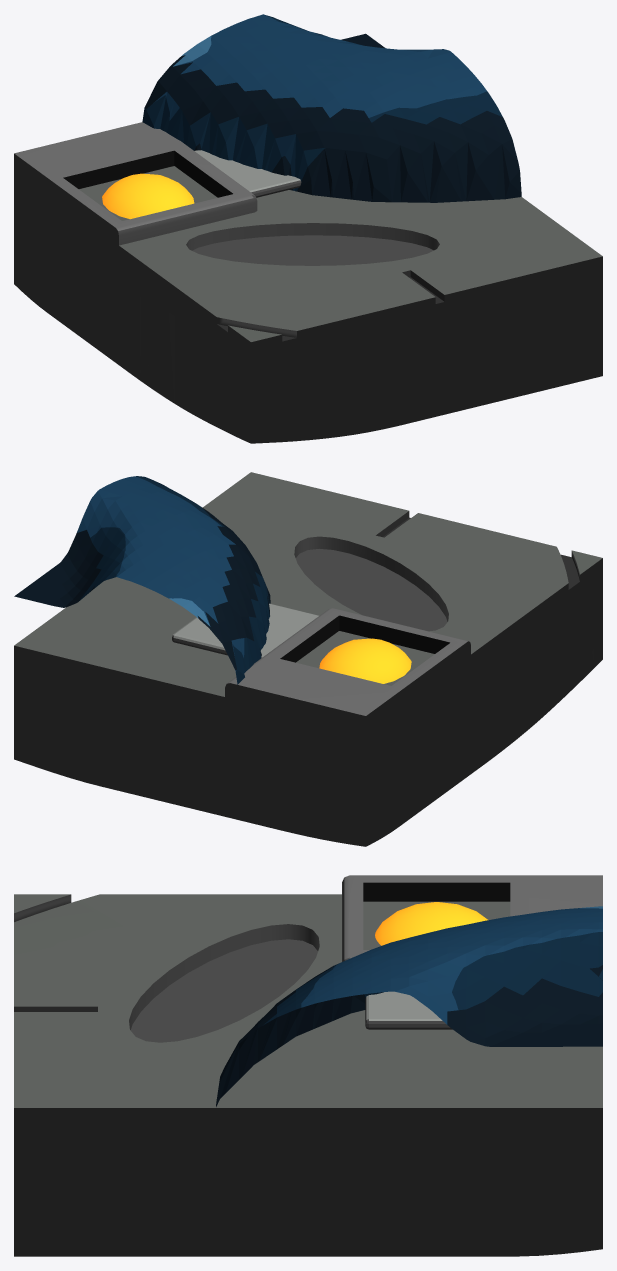
File: camanis_boss_273.glb
3 views of the same model, one above another, from view 1: azimuth 30°, elevation 25°; view 2: azimuth 150°, elevation 25°; view 3: azimuth 270°, elevation 25° (orthographic). The views are drawn at different scales.
Parts seen in each view (by area): view 1: camanis_boss_273; view 2: camanis_boss_273; view 3: camanis_boss_273.
Part boxes in pixels (bbox=[...]): camanis_boss_273: bbox=[14, 14, 602, 443]; camanis_boss_273: bbox=[14, 472, 602, 846]; camanis_boss_273: bbox=[14, 875, 602, 1256].
Size of the model in its own units: 24 by 13.91 by 28.
